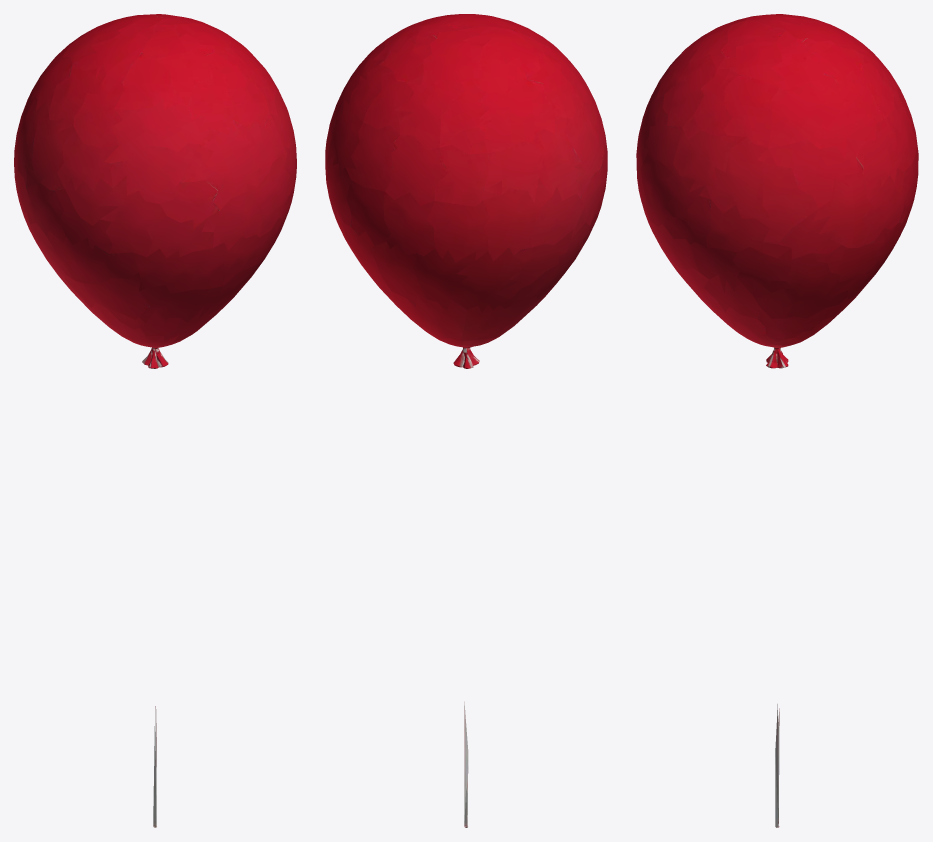
Rendered from balloon.glb.
3 renders of one model, left to right at view 1: azimuth 30°, elevation 25°; view 2: azimuth 150°, elevation 25°; view 3: azimuth 270°, elevation 25°, orthographic.
Visible parts, largest first — view 1: Mesh_0; view 2: Mesh_0; view 3: Mesh_0.
Boxes of the visible parts, x1,y1,x2,y2 form: Mesh_0: [14, 14, 296, 827]; Mesh_0: [325, 14, 607, 827]; Mesh_0: [636, 14, 918, 827].
Bounding box in the file's own units: 0.5131 × 1.6 × 0.5119.
Materials: 1 (1 with a texture image).
